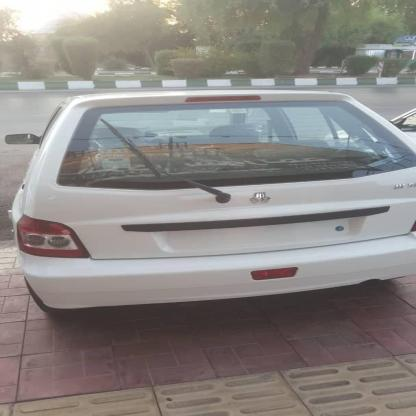Car: (0, 84, 416, 325)
